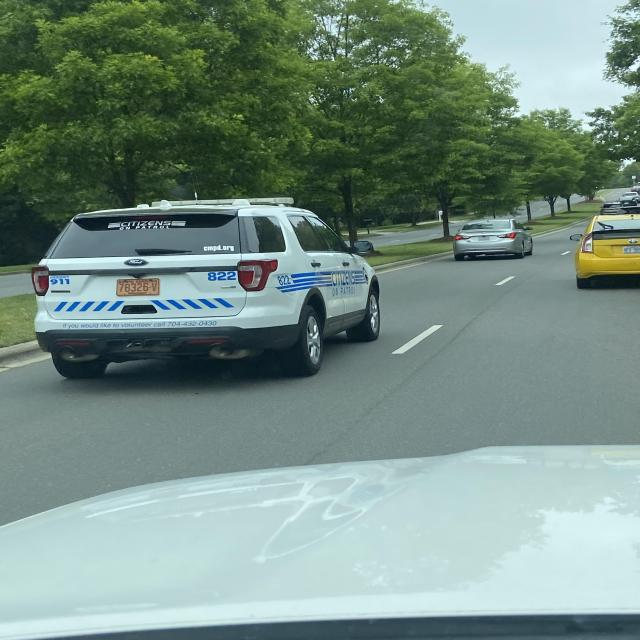cop: (30, 198, 397, 392)
